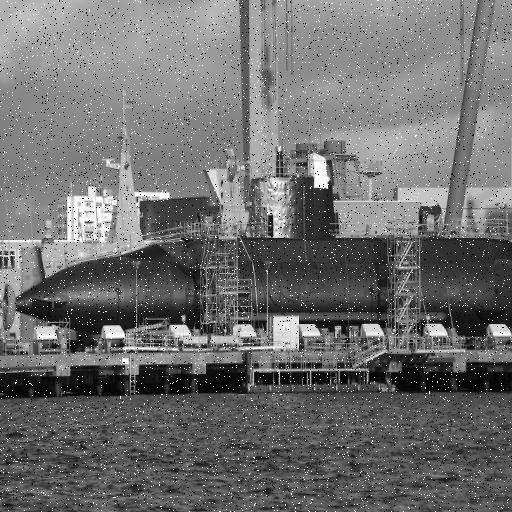submarine: (1, 175, 512, 338)
